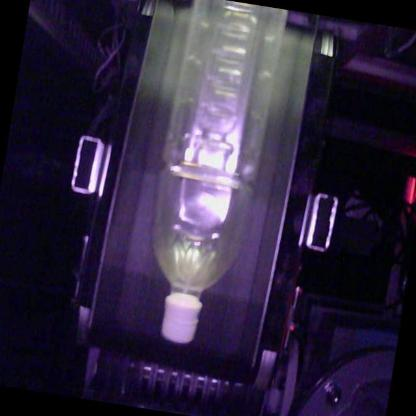Plastic Bottle: (154, 8, 286, 344)
